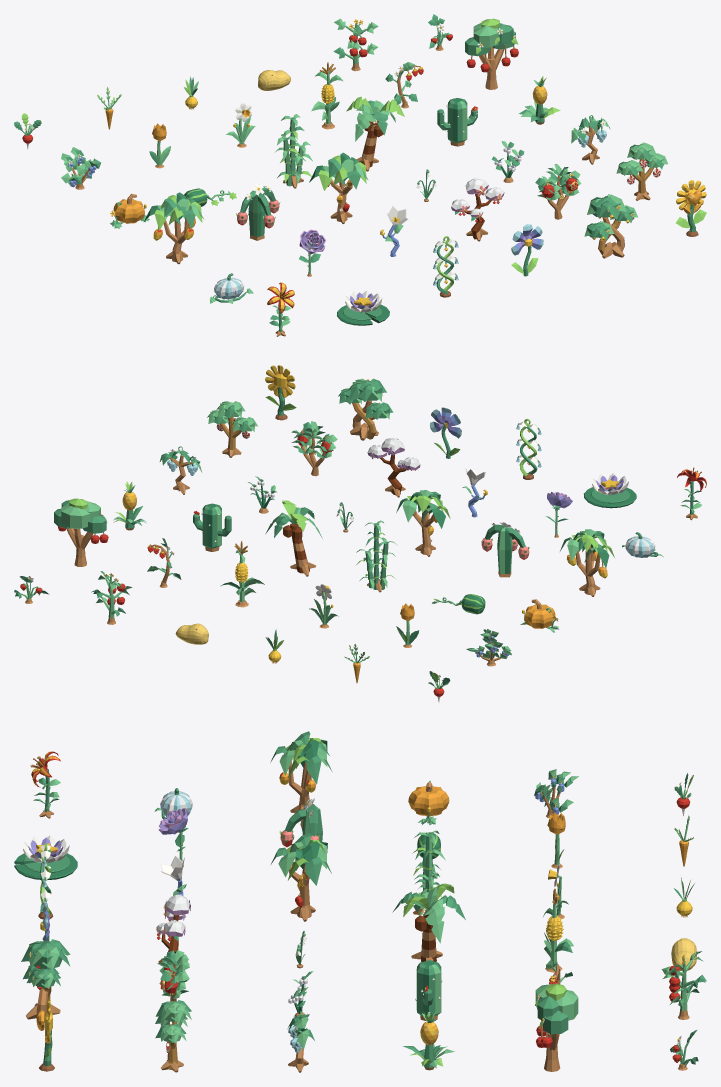
File: GardenPlants-36.glb
The picture shows the model from 3 angles, top to bottom: view 1: azimuth 30°, elevation 25°; view 2: azimuth 150°, elevation 25°; view 3: azimuth 270°, elevation 25°; orthographic projection. The views are drawn at different scales.
Parts seen in each view (by area): view 1: 12-apple-tree_Body, 19-mango_Body, 35-eternal-spring-tree_Body, 16-coconut-palm_Body, 21-cacao_Body, 20-dragon-fruit_Body, 30-candy-tree_Body, 32-star-lotus_Body, 15-bamboo_Body, 29-crystal-pomegranate_Body, 28-northern-sakura_Body, 17-cactus_Body (+17 smaller); view 2: 12-apple-tree_Body, 35-eternal-spring-tree_Body, 19-mango_Body, 21-cacao_Body, 16-coconut-palm_Body, 30-candy-tree_Body, 20-dragon-fruit_Body, 32-star-lotus_Body, 29-crystal-pomegranate_Body, 17-cactus_Body, 28-northern-sakura_Body, 15-bamboo_Body (+14 smaller); view 3: 12-apple-tree_Body, 21-cacao_Body, 16-coconut-palm_Body, 19-mango_Body, 35-eternal-spring-tree_Body, 32-star-lotus_Body, 30-candy-tree_Body, 17-cactus_Body, 28-northern-sakura_Body, 05-tomato_Body, 29-crystal-pomegranate_Body, 13-pumpkin_Body (+13 smaller).
Boxes of the visible parts, bbox=[...] form: 12-apple-tree_Body: bbox=[465, 18, 518, 89]; 19-mango_Body: bbox=[144, 192, 204, 264]; 35-eternal-spring-tree_Body: bbox=[584, 194, 638, 258]; 16-coconut-palm_Body: bbox=[346, 96, 404, 171]; 21-cacao_Body: bbox=[309, 152, 368, 223]; 20-dragon-fruit_Body: bbox=[236, 183, 280, 240]; 30-candy-tree_Body: bbox=[616, 142, 667, 200]; 32-star-lotus_Body: bbox=[337, 290, 389, 325]; 15-bamboo_Body: bbox=[275, 114, 312, 188]; 29-crystal-pomegranate_Body: bbox=[535, 164, 581, 219]; 28-northern-sakura_Body: bbox=[451, 178, 504, 241]; 17-cactus_Body: bbox=[437, 98, 477, 146]; 12-apple-tree_Body: bbox=[54, 498, 108, 566]; 35-eternal-spring-tree_Body: bbox=[338, 378, 393, 440]; 19-mango_Body: bbox=[560, 529, 614, 596]; 21-cacao_Body: bbox=[396, 490, 450, 556]; 16-coconut-palm_Body: bbox=[265, 500, 322, 576]; 30-candy-tree_Body: bbox=[207, 401, 257, 457]; 20-dragon-fruit_Body: bbox=[481, 522, 529, 577]; 32-star-lotus_Body: bbox=[584, 473, 636, 508]; 29-crystal-pomegranate_Body: bbox=[291, 421, 337, 476]; 17-cactus_Body: bbox=[193, 503, 231, 551]; 28-northern-sakura_Body: bbox=[367, 438, 420, 497]; 15-bamboo_Body: bbox=[356, 520, 397, 592]; 12-apple-tree_Body: bbox=[535, 983, 578, 1071]; 21-cacao_Body: bbox=[271, 833, 331, 921]; 16-coconut-palm_Body: bbox=[392, 883, 465, 961]; 19-mango_Body: bbox=[270, 731, 332, 813]; 35-eternal-spring-tree_Body: bbox=[21, 939, 70, 1022]; 32-star-lotus_Body: bbox=[14, 835, 77, 879]; 30-candy-tree_Body: bbox=[155, 1000, 191, 1072]; 17-cactus_Body: bbox=[415, 960, 442, 1020]; 28-northern-sakura_Body: bbox=[156, 894, 190, 963]; 05-tomato_Body: bbox=[661, 951, 706, 1019]; 29-crystal-pomegranate_Body: bbox=[157, 950, 189, 1001]; 13-pumpkin_Body: bbox=[408, 780, 449, 825].
Bounding box in the file's own units: 6.76 × 0.9358 × 6.99.
Materials: 1 (1 with a texture image).
